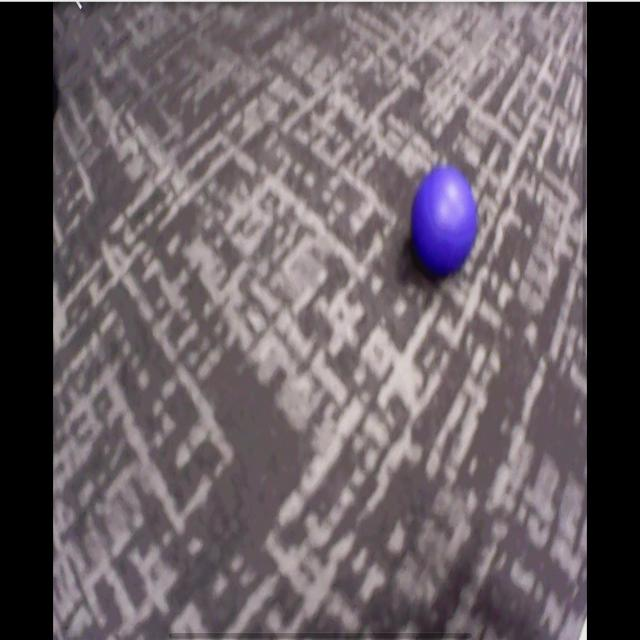ball: (413, 169, 478, 272)
